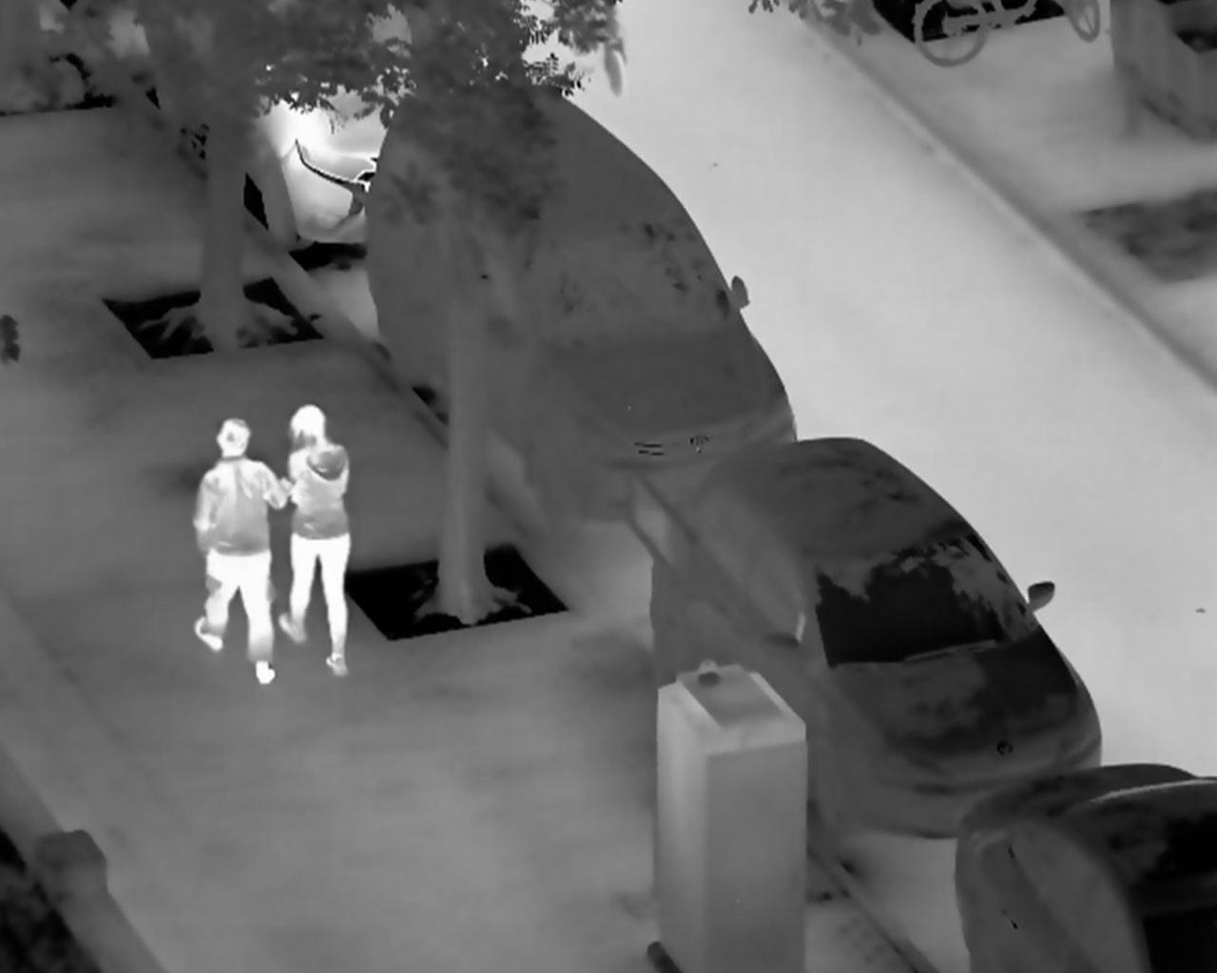person: (190, 417, 285, 688), (276, 404, 356, 680)
